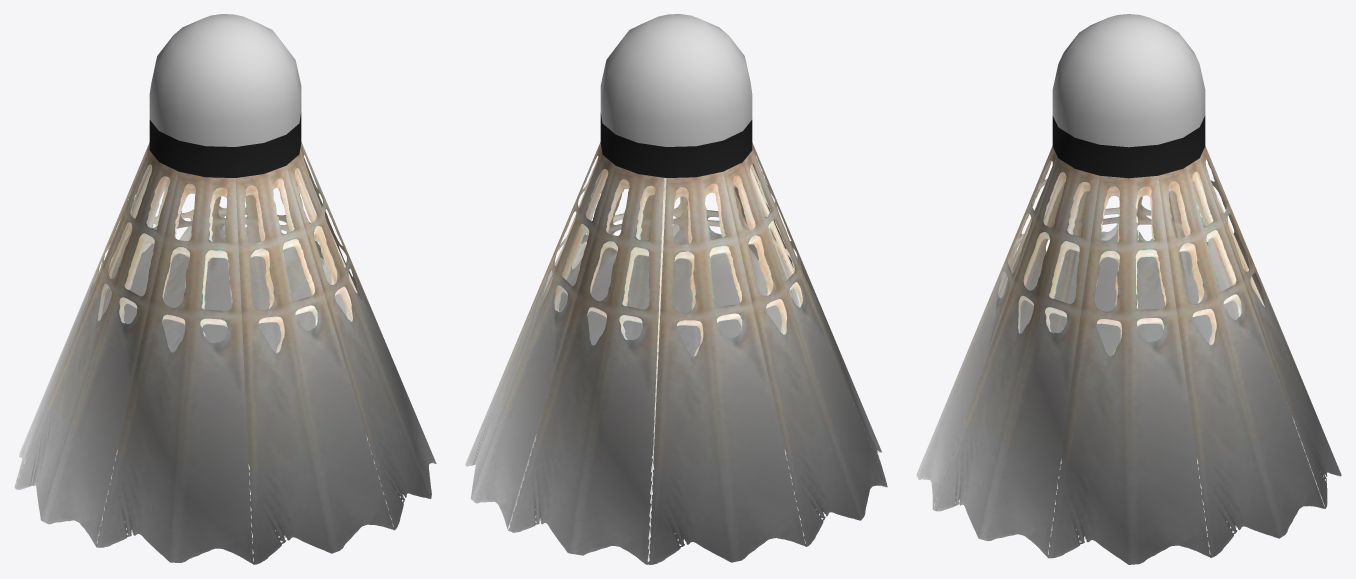
The model's file is birdie.glb.
3 views of the same model, side by side, from view 1: azimuth 30°, elevation 25°; view 2: azimuth 150°, elevation 25°; view 3: azimuth 270°, elevation 25° (orthographic).
Visible parts, largest first — view 1: Sphere; view 2: Sphere; view 3: Sphere.
Part boxes in pixels (x1,y1,x2,y2): Sphere: (14,14,436,564); Sphere: (465,14,887,564); Sphere: (916,14,1341,564).
Bounding box in the file's own units: 0.8829 × 1.04 × 0.8829.
3 materials, 1 textured.
